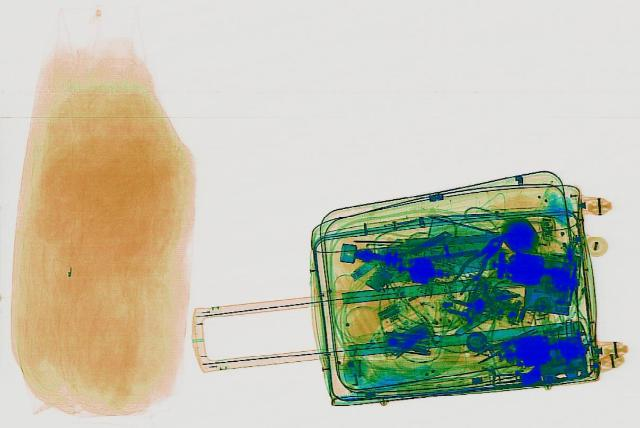Pliers: (440, 232, 510, 292), (471, 324, 543, 360)
